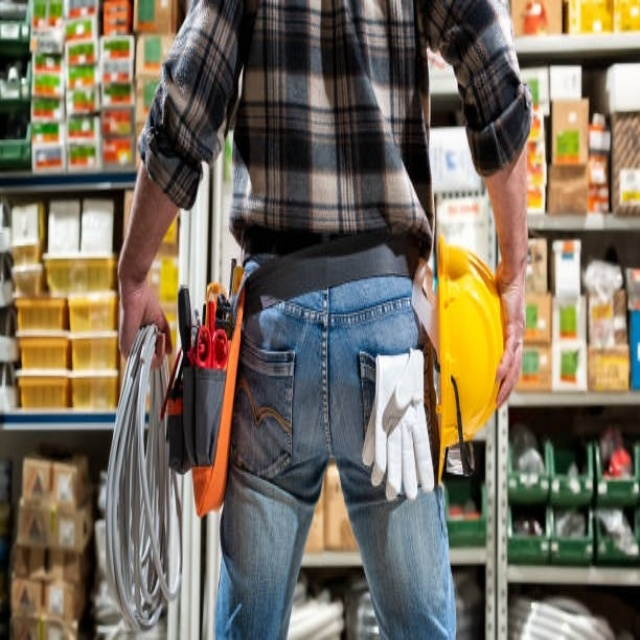Sin_guantes: (119, 267, 173, 371), (491, 274, 526, 413)
